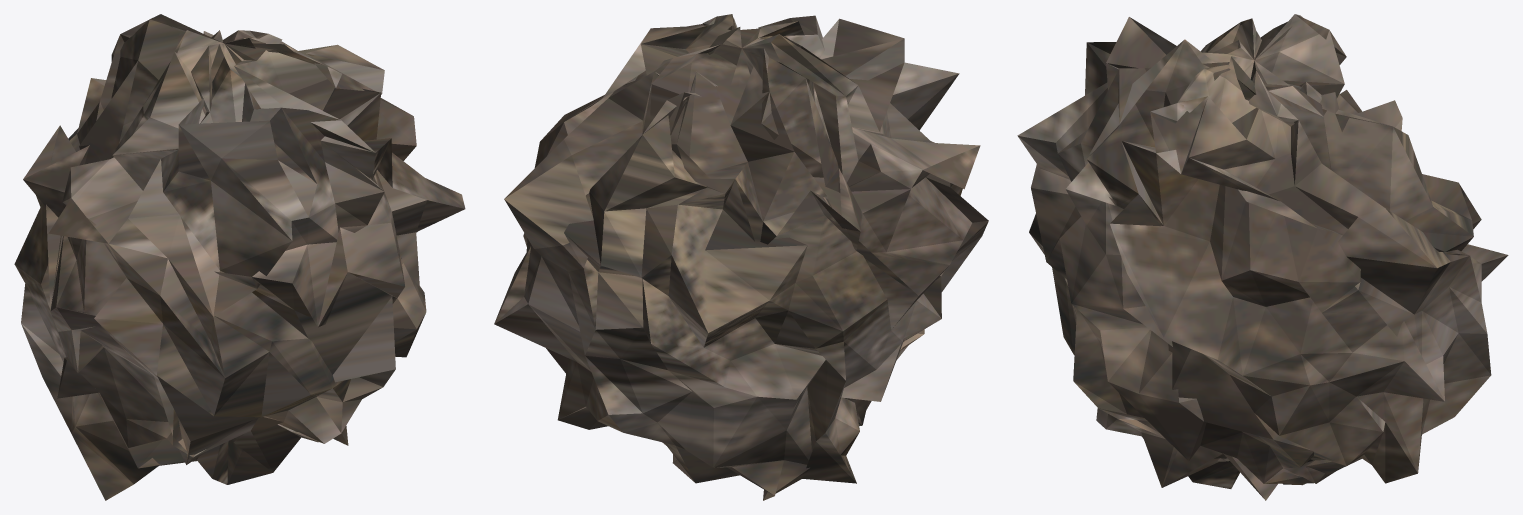
File: Fcloud.glb
3 renders of one model, left to right at view 1: azimuth 30°, elevation 25°; view 2: azimuth 150°, elevation 25°; view 3: azimuth 270°, elevation 25°, orthographic. The views are drawn at different scales.
Parts seen in each view (by area): view 1: Fcloud; view 2: Fcloud; view 3: Fcloud.
Boxes of the visible parts, x1,y1,x2,y2 form: Fcloud: (14, 14, 465, 500); Fcloud: (494, 14, 988, 500); Fcloud: (1017, 14, 1508, 500).
Size of the model in its own units: 178 by 184 by 178.
Materials: 1 (1 with a texture image).
